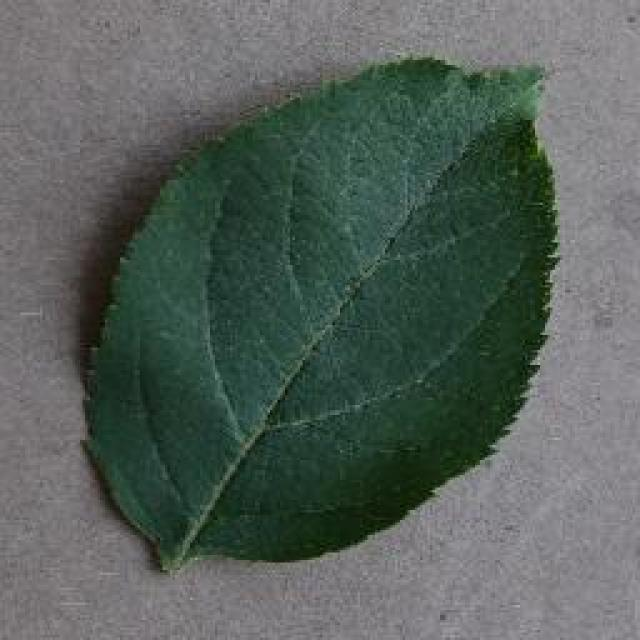apple healthy: (78, 50, 562, 572)
